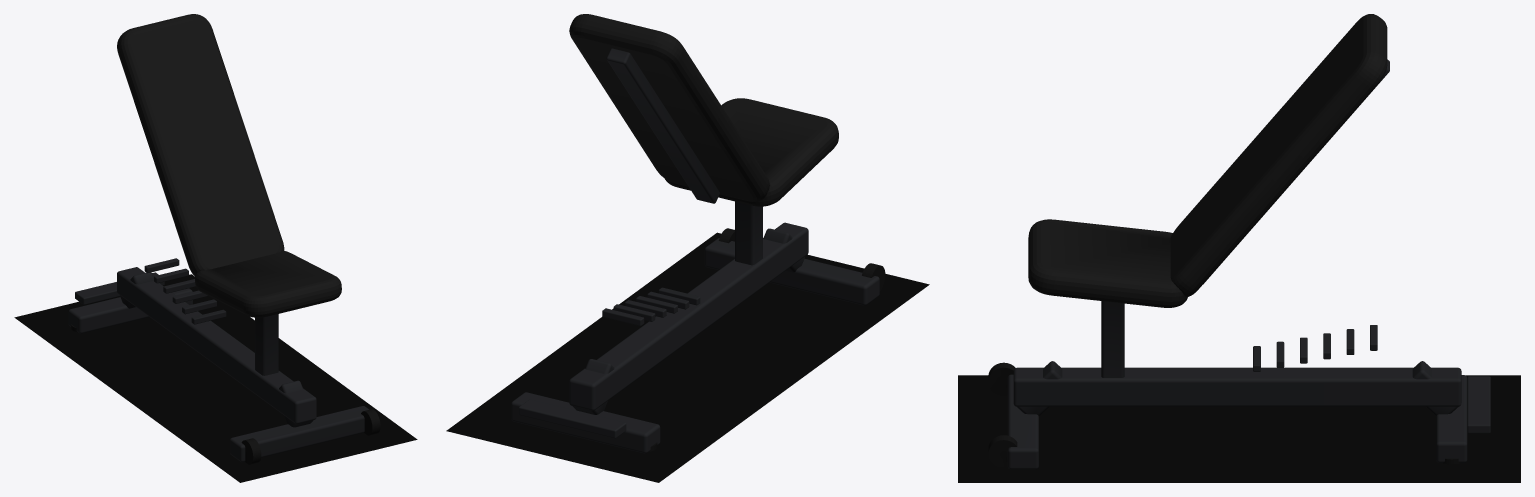
The model's file is banco-ajustavel.glb.
3 views of the same model, side by side, from view 1: azimuth 30°, elevation 25°; view 2: azimuth 150°, elevation 25°; view 3: azimuth 270°, elevation 25° (orthographic). The views are drawn at different scales.
Visible parts, largest first — view 1: Almofada, Sombra_Contacto, Calha, Assento, Pe_Frente, Pe_Tras, Suporte_Assento, Pega_Transporte; view 2: Sombra_Contacto, Almofada, Calha, Assento, Calha_Encosto, Pe_Frente, Pe_Tras, Pega_Transporte, Suporte_Assento; view 3: Sombra_Contacto, Almofada, Calha, Assento, Pe_Frente, Pe_Tras, Suporte_Assento, Pega_Transporte, Roda_1, Roda.
Boxes of the visible parts, <box> form: Almofada: <box>117,14,284,276</box>; Sombra_Contacto: <box>14,274,417,482</box>; Calha: <box>117,267,316,423</box>; Assento: <box>195,251,341,317</box>; Pe_Frente: <box>230,406,369,462</box>; Pe_Tras: <box>68,288,192,333</box>; Suporte_Assento: <box>255,314,278,375</box>; Pega_Transporte: <box>75,272,164,304</box>; Sombra_Contacto: <box>446,232,929,482</box>; Almofada: <box>569,14,769,201</box>; Calha: <box>569,222,808,410</box>; Assento: <box>664,98,838,206</box>; Calha_Encosto: <box>606,48,719,203</box>; Pe_Frente: <box>704,238,879,305</box>; Pe_Tras: <box>511,392,660,453</box>; Pega_Transporte: <box>518,399,626,438</box>; Suporte_Assento: <box>735,201,762,265</box>; Sombra_Contacto: <box>958,375,1520,482</box>; Almofada: <box>1170,14,1387,297</box>; Calha: <box>1013,367,1461,406</box>; Assento: <box>1028,219,1187,307</box>; Pe_Frente: <box>1007,374,1038,469</box>; Pe_Tras: <box>1436,375,1467,462</box>; Suporte_Assento: <box>1101,301,1124,377</box>; Pega_Transporte: <box>1467,376,1490,433</box>; Roda_1: <box>988,435,1017,467</box>; Roda: <box>988,362,1015,395</box>.
Size of the model in its own units: 0.6548 by 1.12 by 1.44.
4 materials, 1 textured.
